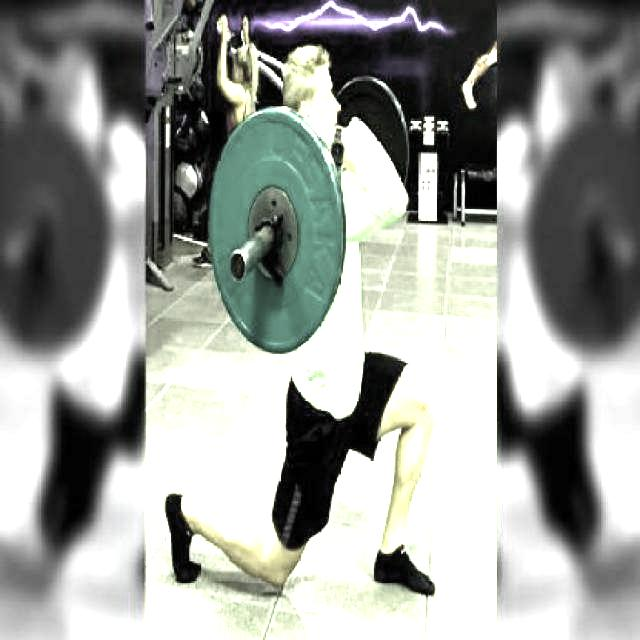barbell: (201, 96, 352, 365)
